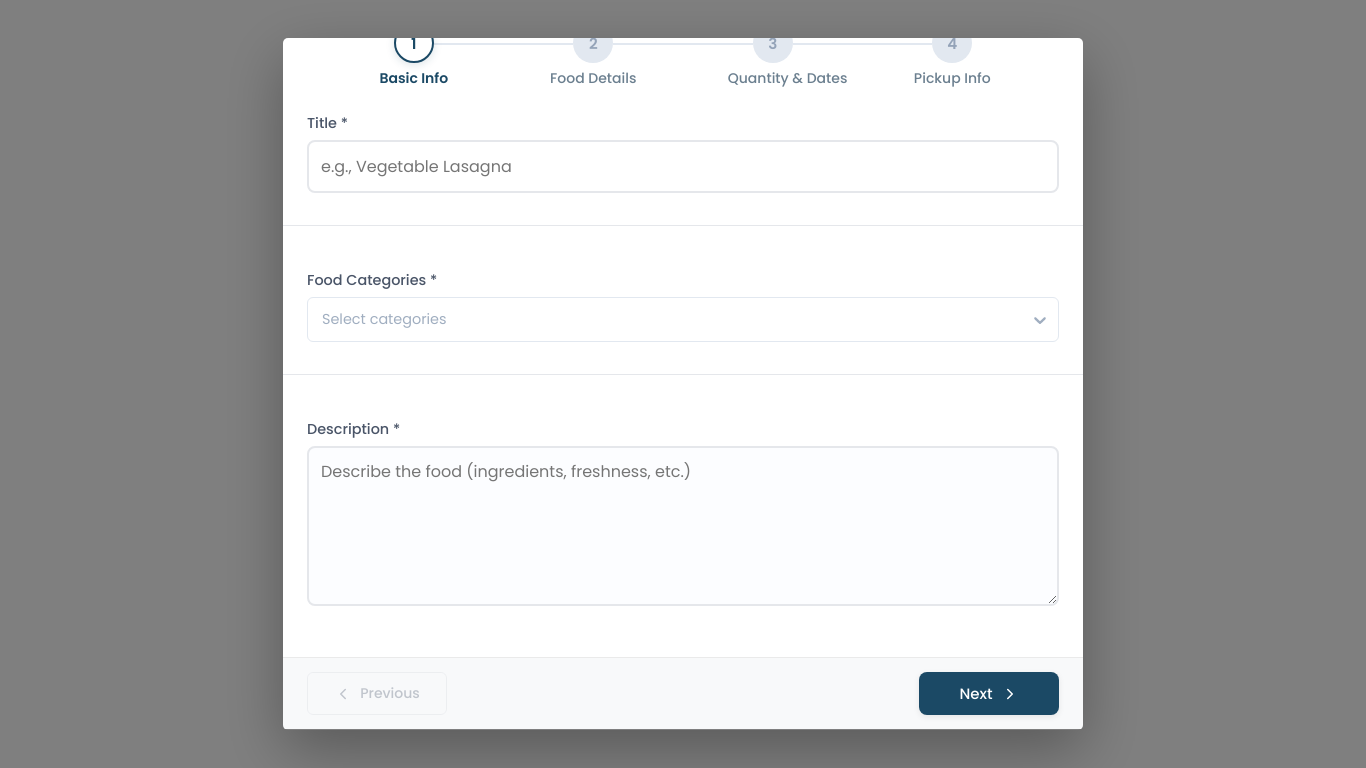
Test: SurplusFormModal › prevents moving to next step without completing required fields
(page scrolled)
// Try to go to next step without filling anything
Click the button "Next": (989, 694) [919, 672, 1059, 715]
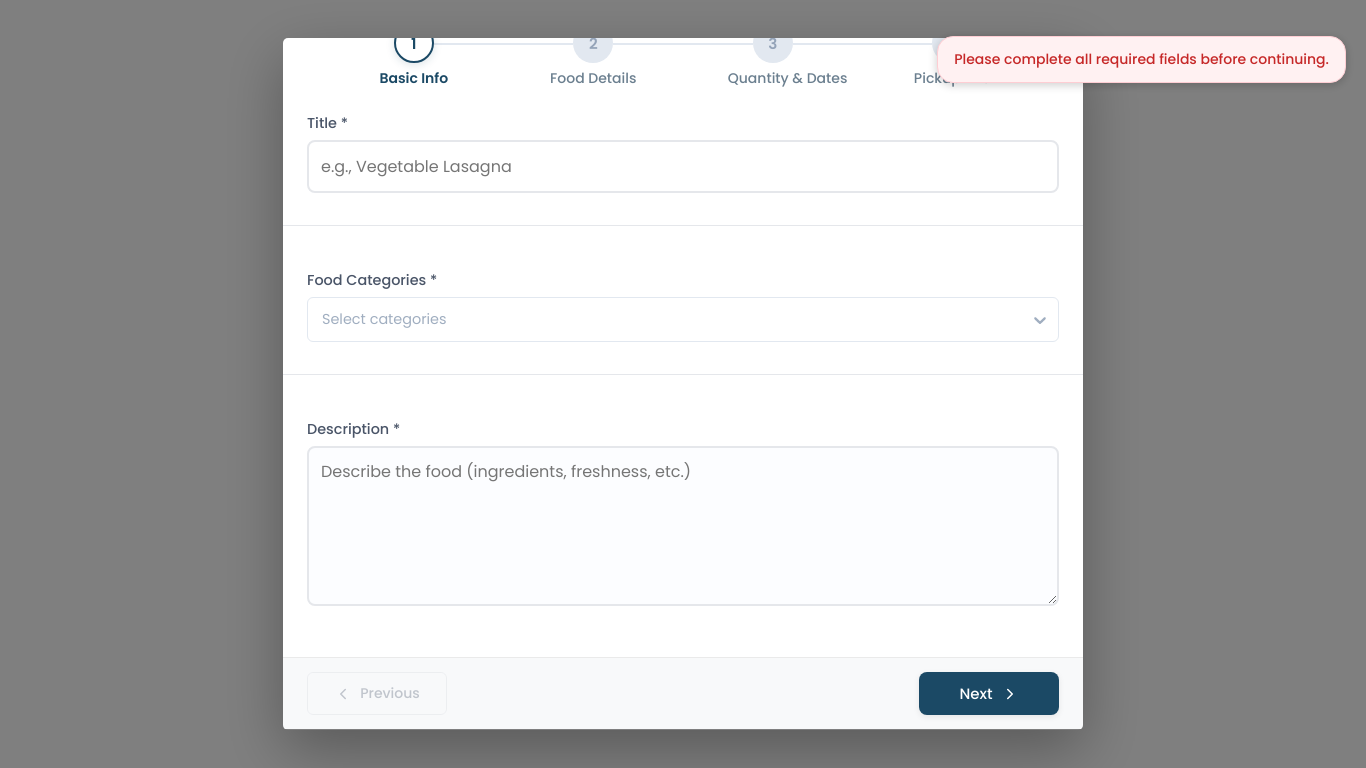
Check: the text "Basic Info" is shown, box [379, 71, 448, 85]
Check: the text "Please complete all required fields before continuing." is shown, box [937, 36, 1346, 83]
